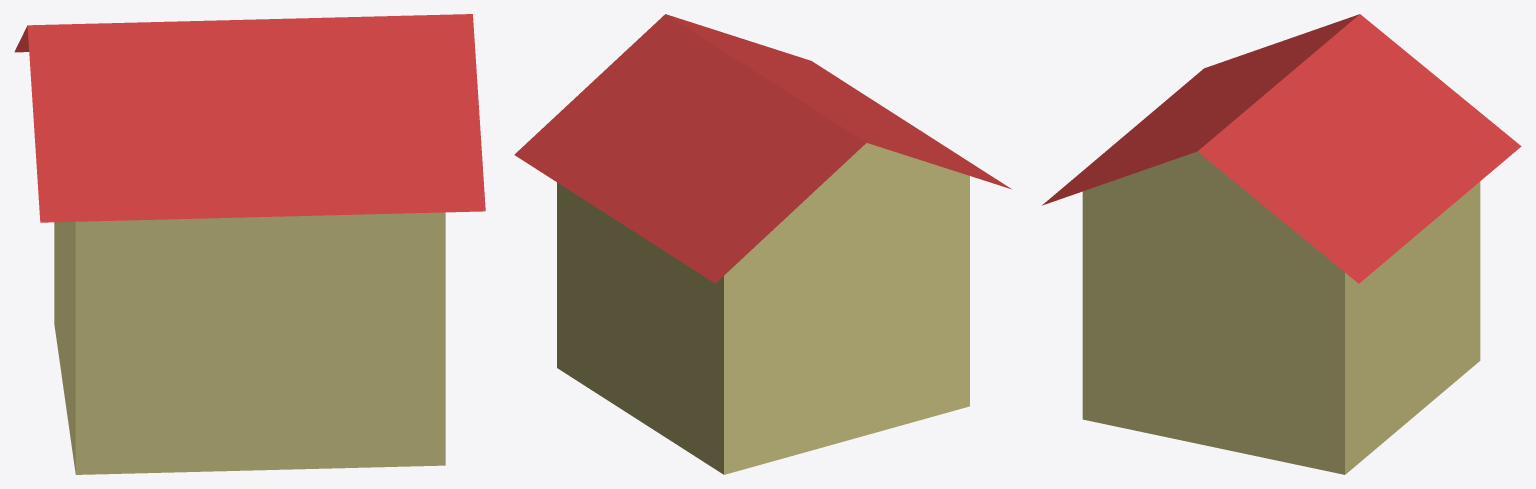
3 renders of one model, left to right at view 1: azimuth 30°, elevation 25°; view 2: azimuth 150°, elevation 25°; view 3: azimuth 270°, elevation 25°, orthographic. The views are drawn at different scales.
Visible parts, largest first — view 1: group_5, group_3, group_4; view 2: group_5, group_3, group_4; view 3: group_5, group_3, group_4.
Part boxes in pixels (x1,y1,x2,y2): group_5: [54, 212, 445, 474]; group_3: [17, 14, 484, 222]; group_4: [14, 14, 485, 222]; group_5: [557, 143, 969, 474]; group_3: [515, 15, 1011, 283]; group_4: [514, 14, 1010, 282]; group_5: [1082, 151, 1480, 474]; group_3: [1083, 14, 1521, 282]; group_4: [1042, 14, 1520, 283].
Bounding box in the file's own units: 15.72 × 15.59 × 10.99.
